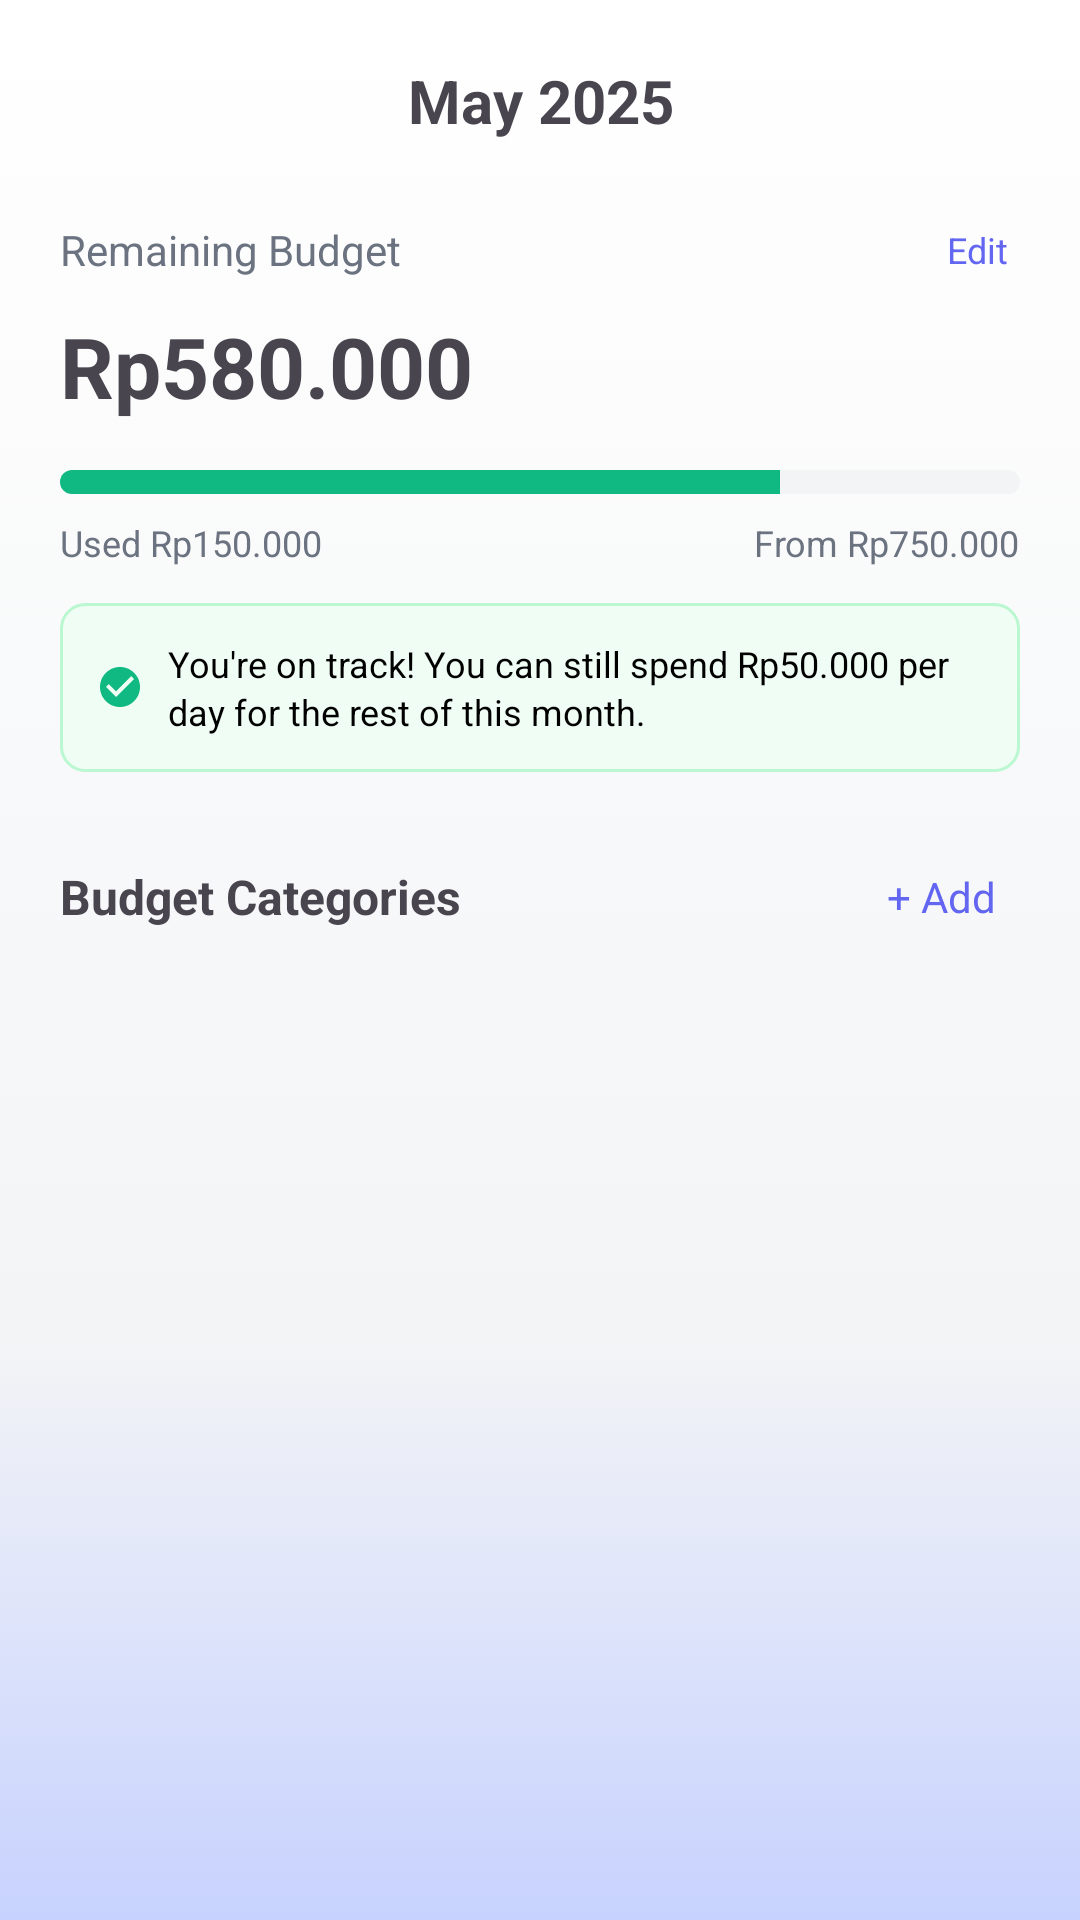

Icon bounding boxes for this 1080 x 1920 phone screenshot, format (x1, y1, x2, y2):
check circle: (100, 667, 140, 707)
